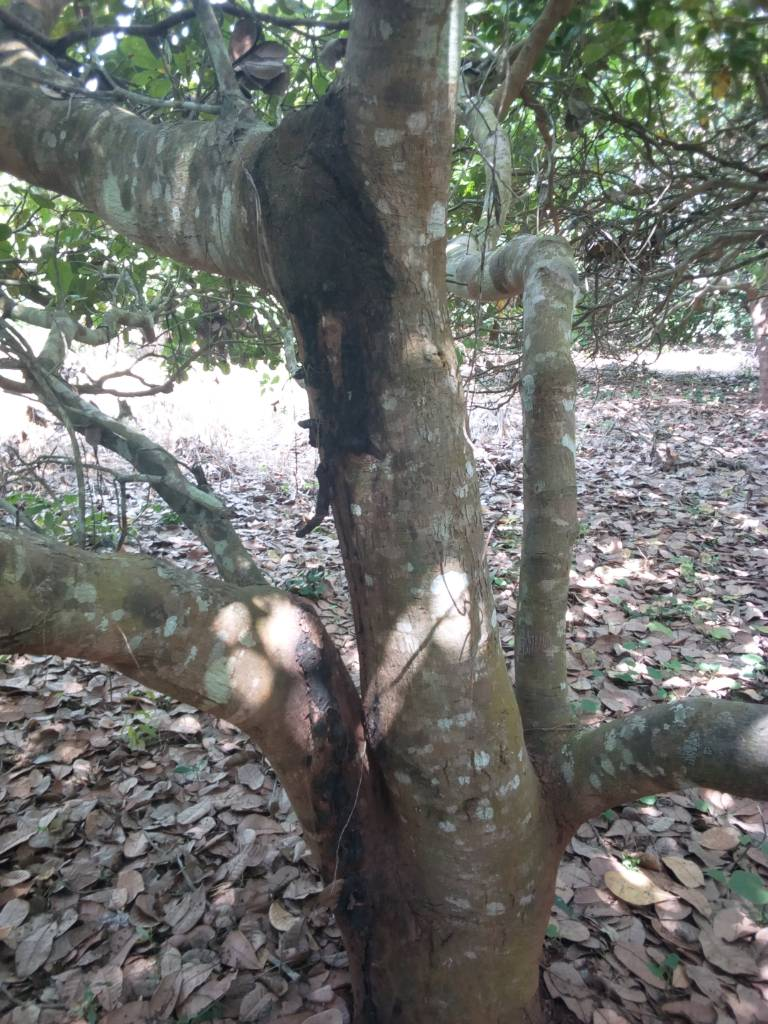Termites: (255, 113, 396, 482)
